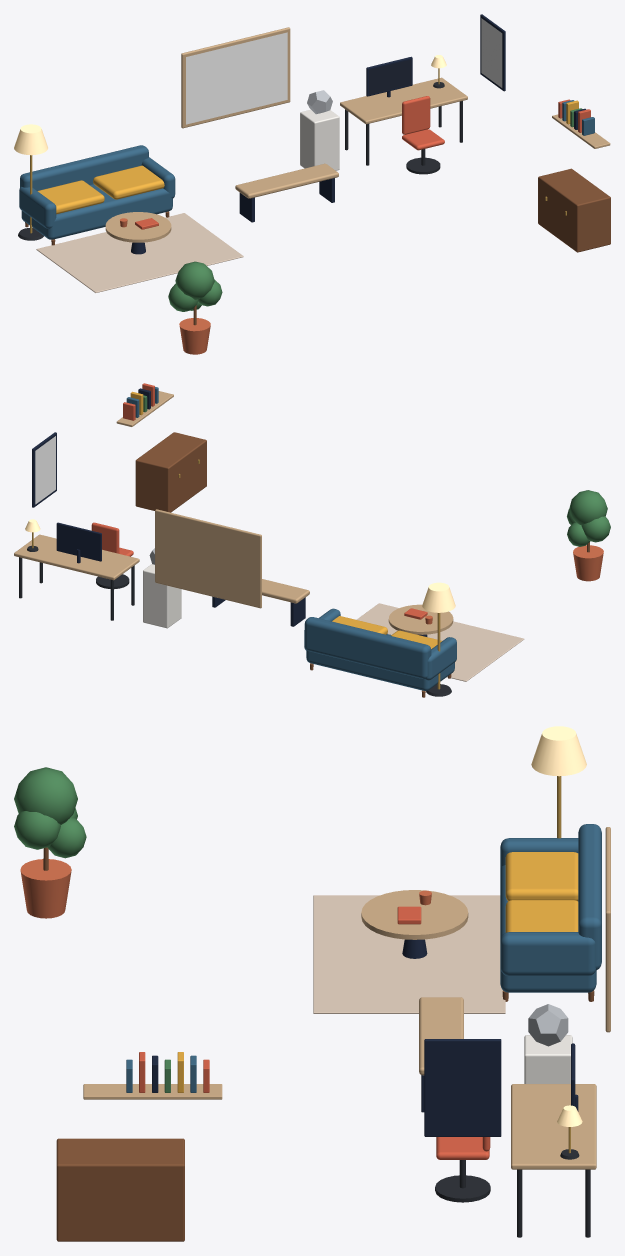
The model's file is room-pieces.glb.
The picture shows the model from 3 angles, top to bottom: view 1: azimuth 30°, elevation 25°; view 2: azimuth 150°, elevation 25°; view 3: azimuth 270°, elevation 25°; orthographic projection. The views are drawn at different scales.
Parts seen in each view (by area): view 1: part_11, board_face, part_45, part_1, part_2, part_31, part_29, part_26, part_25, part_6, part_12, part_5 (+14 smaller); view 2: part_25, part_45, part_2, part_11, part_31, part_29, part_1, part_36, part_12, poster_face, part_21, part_19 (+8 smaller); view 3: part_11, part_45, part_48, part_31, part_4, part_12, part_5, part_2, part_21, part_19, part_6, part_18 (+11 smaller).
Part boxes in pixels (<box>): part_11: <box>36,213,243,292</box>; board_face: <box>186,32,287,124</box>; part_45: <box>538,168,610,252</box>; part_1: <box>21,184,172,239</box>; part_2: <box>20,145,148,190</box>; part_31: <box>340,77,467,124</box>; part_29: <box>300,109,339,170</box>; part_26: <box>235,163,338,198</box>; part_25: <box>181,27,290,128</box>; part_6: <box>93,165,164,199</box>; part_12: <box>105,212,171,242</box>; part_5: <box>37,180,104,214</box>; part_25: <box>155,509,261,608</box>; part_45: <box>135,432,206,512</box>; part_2: <box>304,617,431,678</box>; part_11: <box>356,603,524,681</box>; part_31: <box>14,534,139,580</box>; part_29: <box>143,564,181,628</box>; part_1: <box>306,634,454,690</box>; part_36: <box>56,522,101,561</box>; part_12: <box>388,604,453,634</box>; poster_face: <box>35,436,55,504</box>; part_21: <box>569,490,607,525</box>; part_19: <box>573,545,603,581</box>; part_11: <box>313,895,505,1013</box>; part_45: <box>56,1138,184,1241</box>; part_48: <box>424,1039,501,1136</box>; part_31: <box>511,1084,596,1169</box>; part_4: <box>500,932,595,975</box>; part_12: <box>361,890,468,939</box>; part_5: <box>505,852,578,901</box>; part_2: <box>578,824,601,970</box>; part_21: <box>14,767,77,824</box>; part_19: <box>20,859,71,918</box>; part_6: <box>505,900,578,932</box>; part_18: <box>531,726,586,776</box>.
Bounding box in the file's own units: 7.89 × 2.18 × 5.59.
